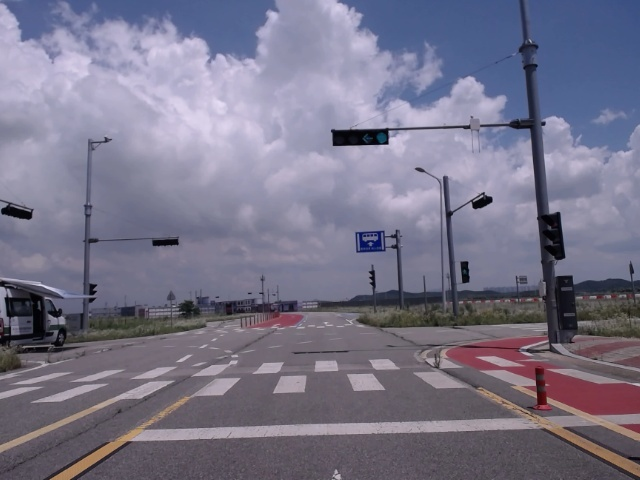all_green_4: (332, 127, 389, 144)
